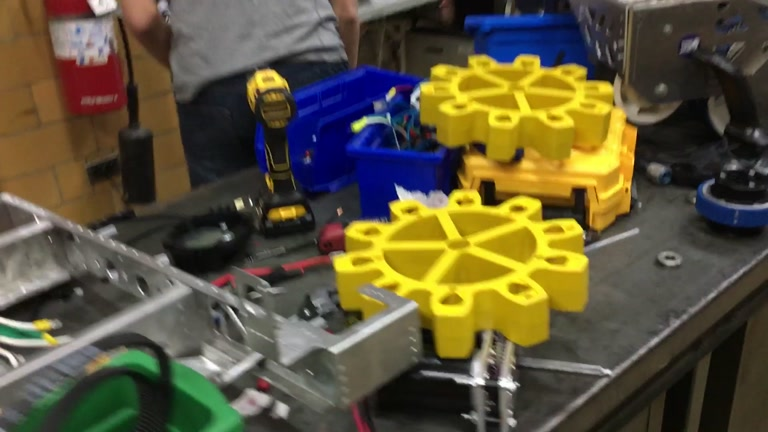gear: (332, 188, 591, 360), (420, 51, 615, 162)
